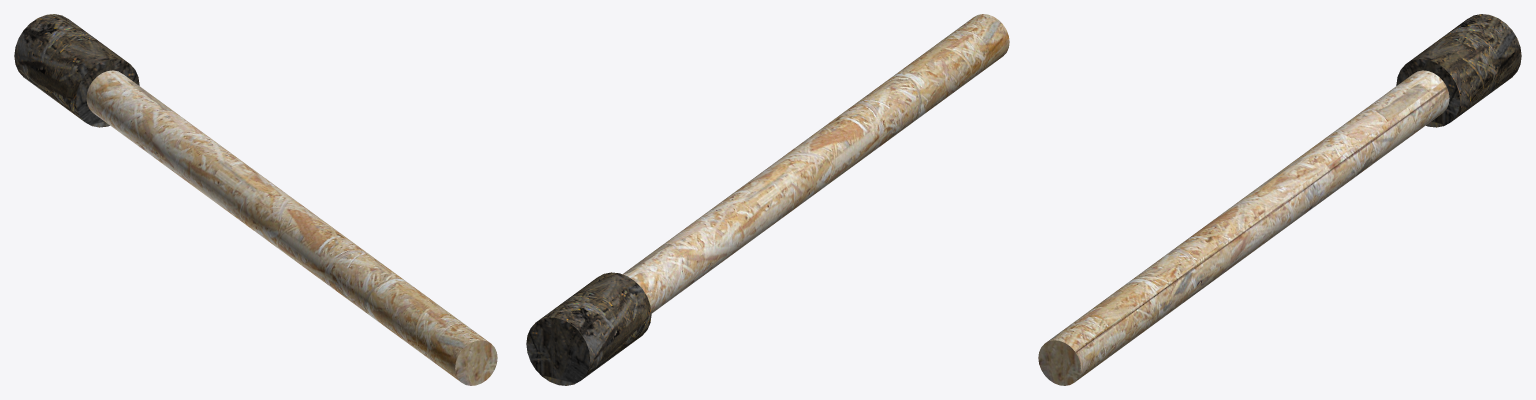
Rendered from torch_basic.dae.
3 renders of one model, left to right at view 1: azimuth 30°, elevation 25°; view 2: azimuth 150°, elevation 25°; view 3: azimuth 330°, elevation 25°, orthographic.
Visible parts, largest first — view 1: SketchUp (×2); view 2: SketchUp (×3); view 3: SketchUp (×2).
Part boxes in pixels (bbox=[...]): SketchUp (×2): bbox=[14, 14, 497, 385]; SketchUp (×3): bbox=[526, 14, 1009, 385]; SketchUp (×2): bbox=[1038, 14, 1521, 385].
Size of the model in its own units: 2.36 by 27.56 by 2.36.
Materials: 2 (2 with a texture image).
